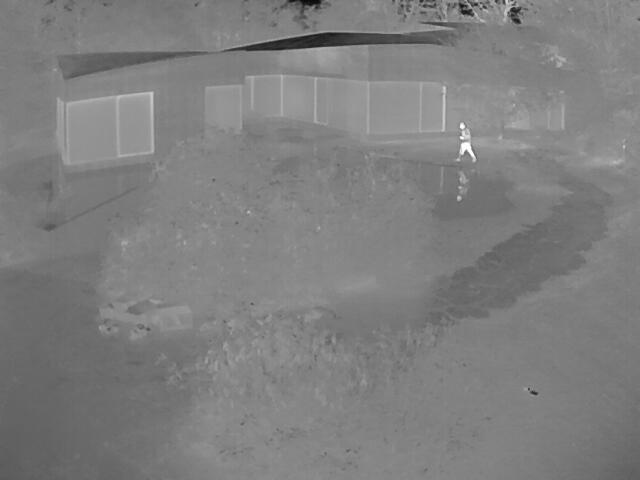person: (456, 122, 478, 163)
